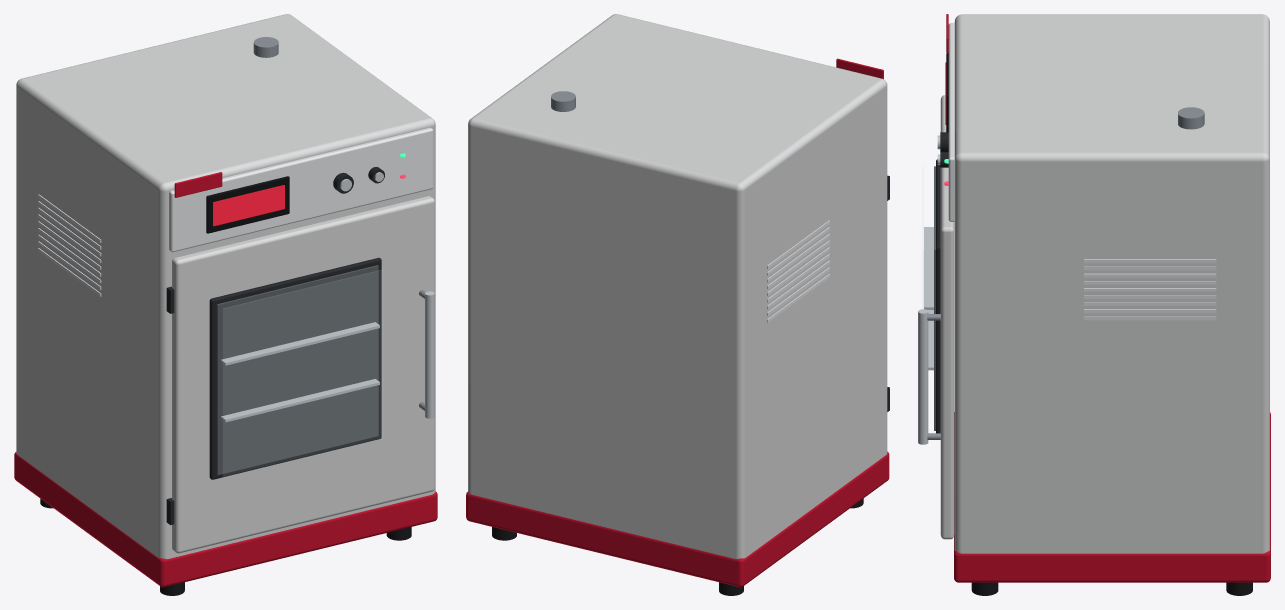
File: nin-110.glb
3 views of the same model, side by side, from view 1: azimuth 30°, elevation 25°; view 2: azimuth 150°, elevation 25°; view 3: azimuth 270°, elevation 25° (orthographic). The views are drawn at different scales.
Bounding box in the file's own units: 0.5636 × 0.835 × 0.582.
